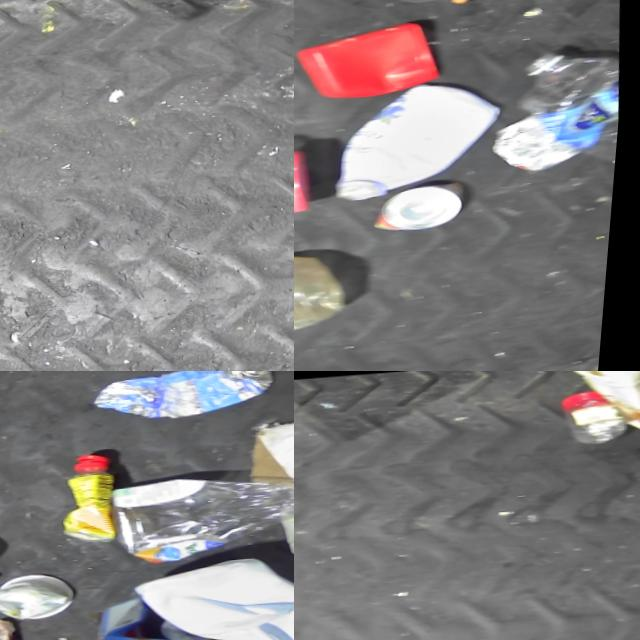can: (375, 181, 476, 233)
milk_jug: (333, 78, 512, 202), (135, 550, 294, 640), (0, 472, 7, 594)
plastic_bottle: (112, 466, 294, 565), (516, 45, 629, 169)
